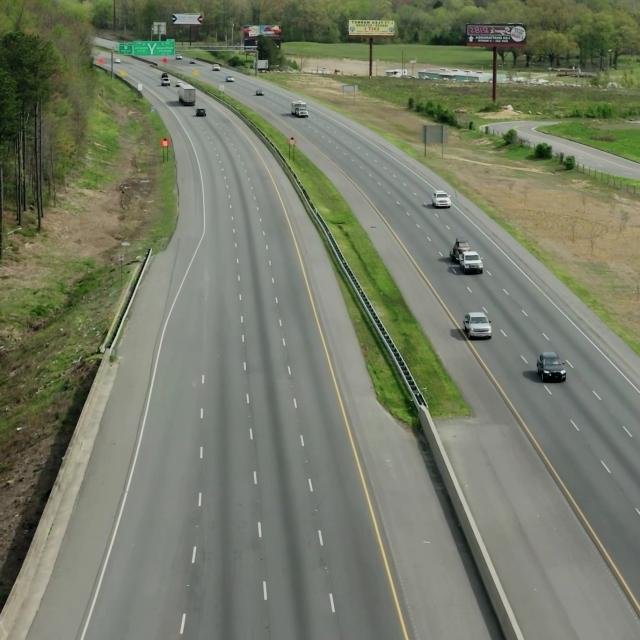Vehicle: (448, 234, 484, 280), (534, 349, 568, 383), (461, 308, 493, 344), (428, 186, 453, 212)
